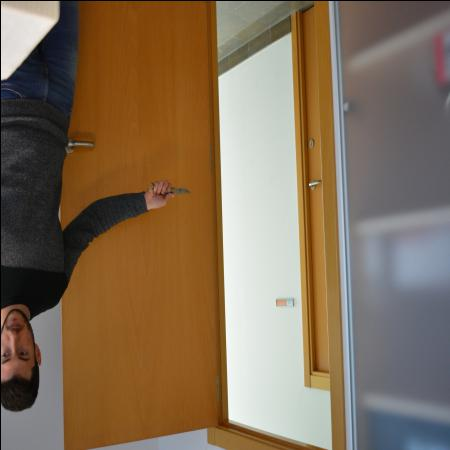long weapon: (148, 178, 192, 198)
